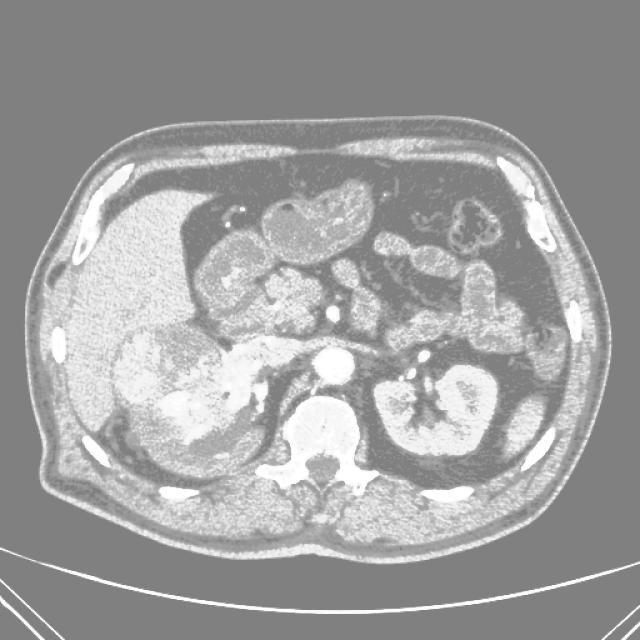TUMOR: (116, 277, 552, 478)
